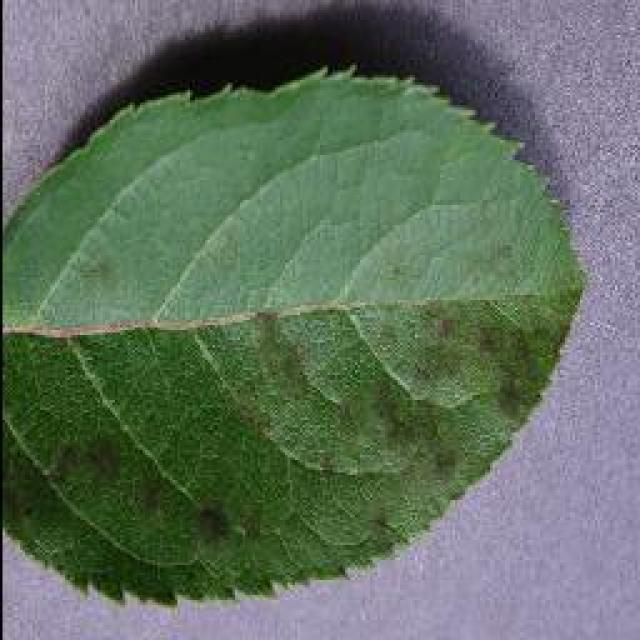apple scab disease: (0, 60, 588, 608)
